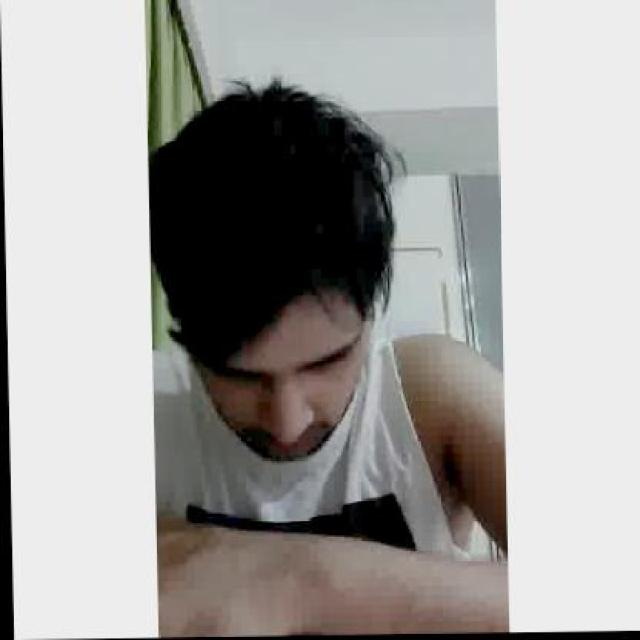inattentif: (152, 83, 372, 465)
